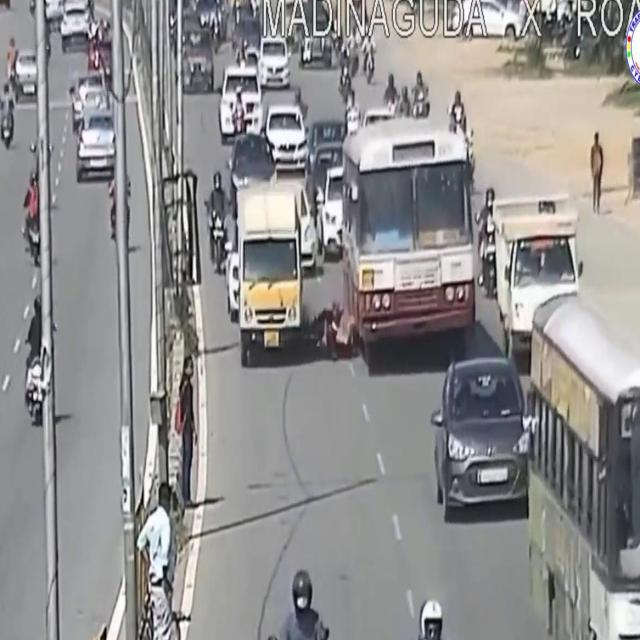accident: (230, 110, 474, 379)
non_accident: (427, 186, 640, 640), (178, 0, 312, 173), (47, 0, 117, 186)
